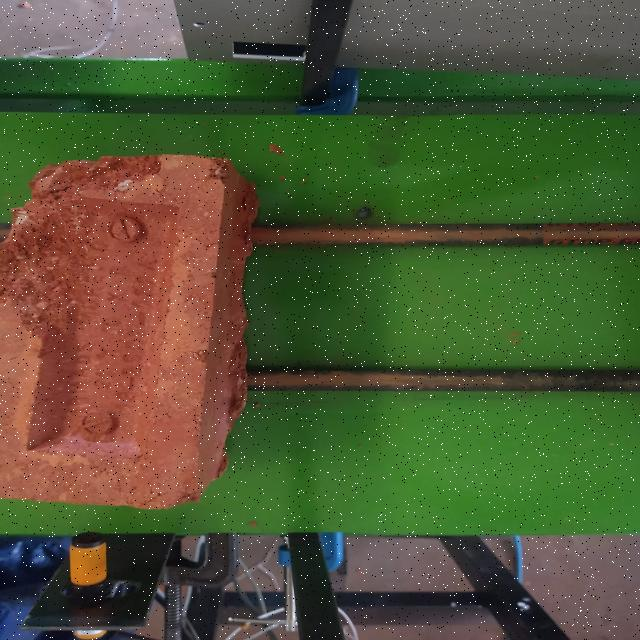bricks_ruin: (0, 151, 261, 506)
